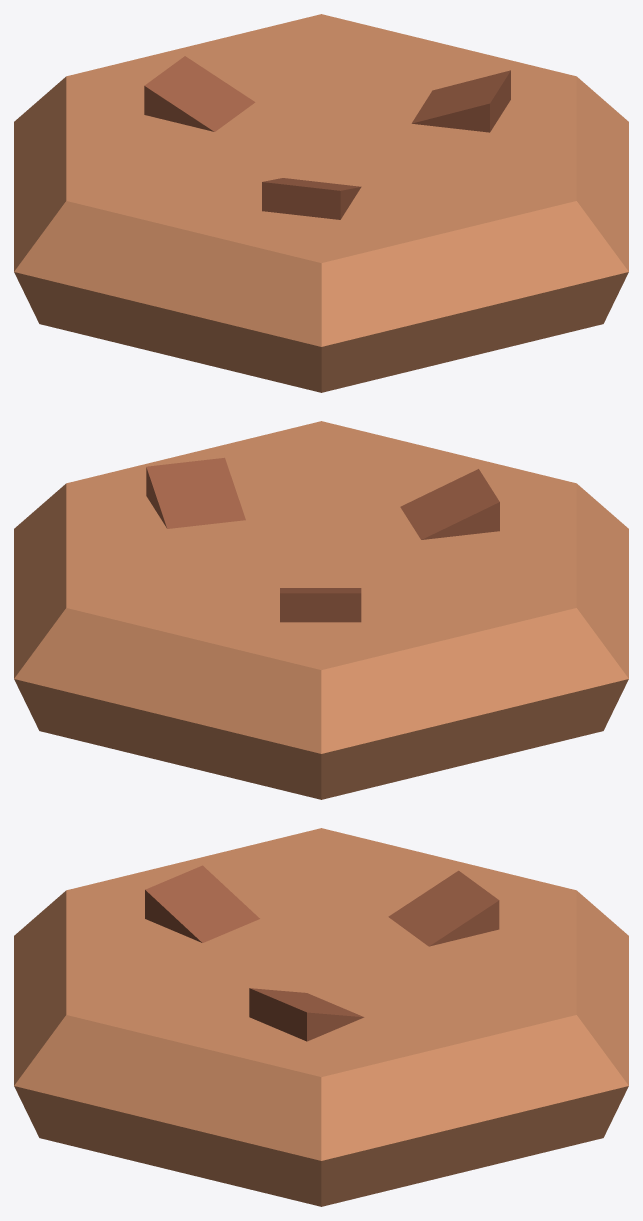
Rendered from cookie.fbx.
The picture shows the model from 3 angles, top to bottom: view 1: azimuth 30°, elevation 25°; view 2: azimuth 150°, elevation 25°; view 3: azimuth 270°, elevation 25°; orthographic projection.
Visible parts, largest first — view 1: cookie; view 2: cookie; view 3: cookie.
Part boxes in pixels (x1,y1,x2,y2): cookie: (14, 14, 628, 392); cookie: (14, 421, 628, 799); cookie: (14, 828, 628, 1206).
Bounding box in the file's own units: 2.2 × 0.4977 × 1.9.
